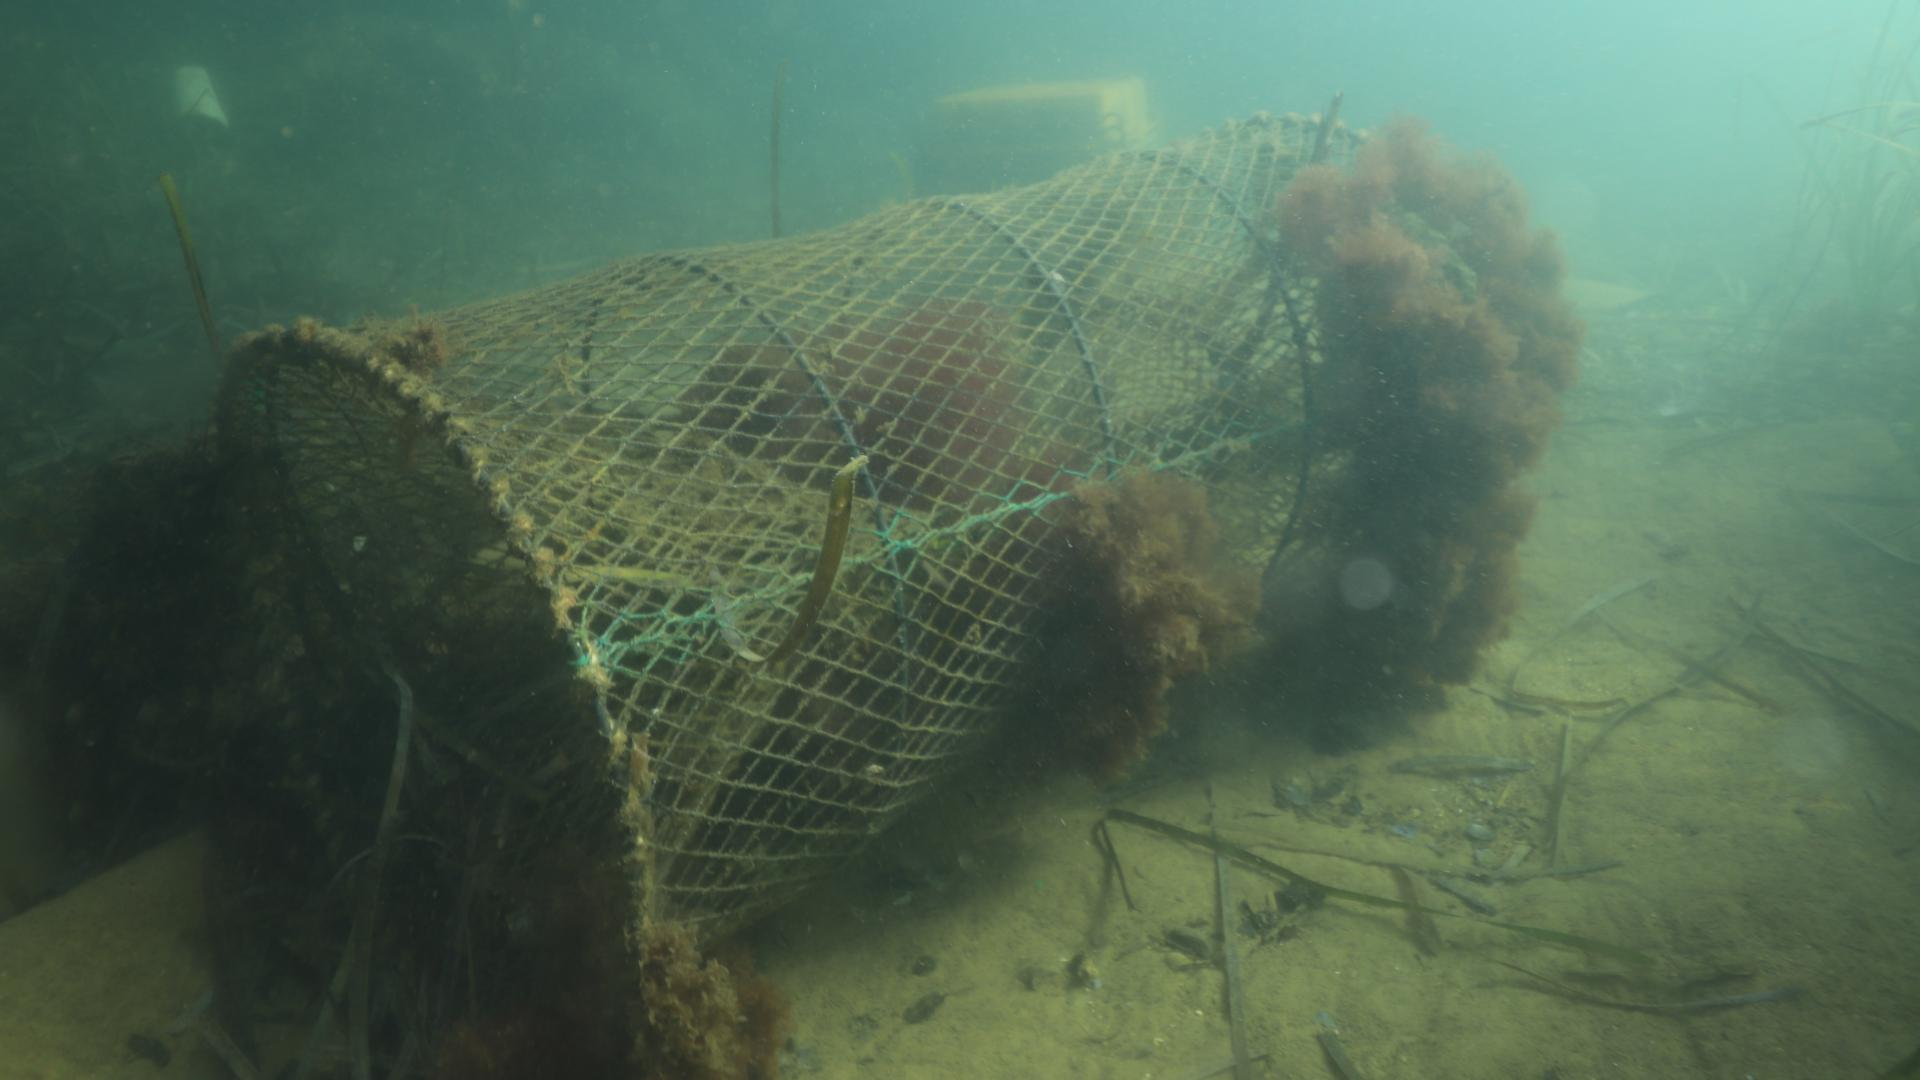spring fish trap: (211, 109, 1374, 1080)
